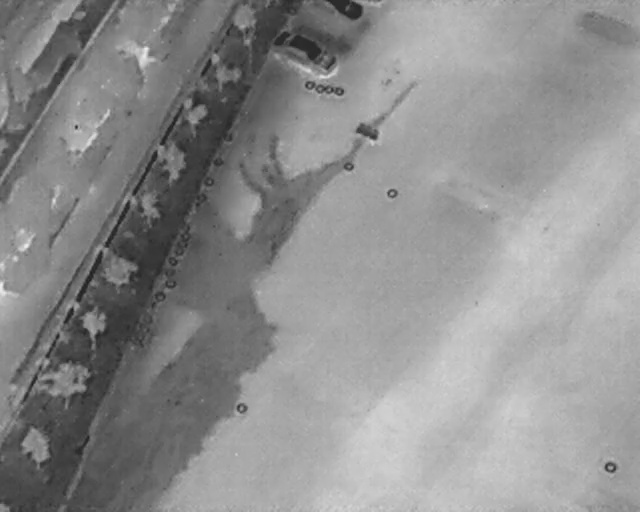Car: (266, 17, 342, 82), (322, 0, 365, 22)
